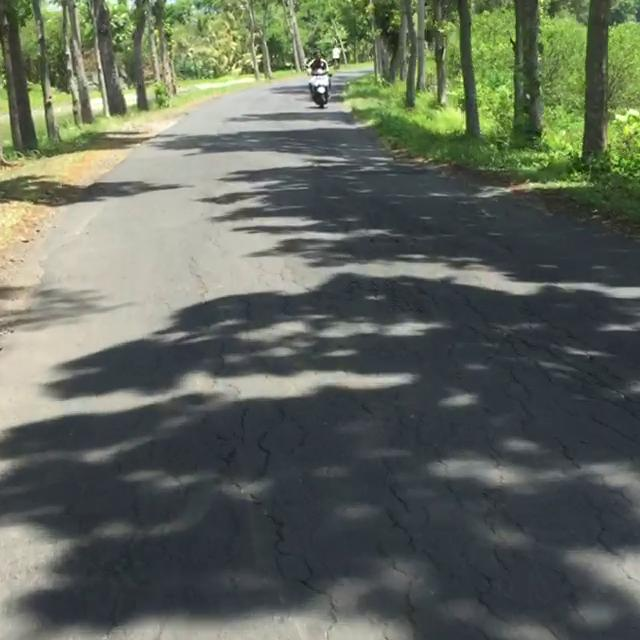retak_kulit_buaya: (225, 335, 640, 640)
